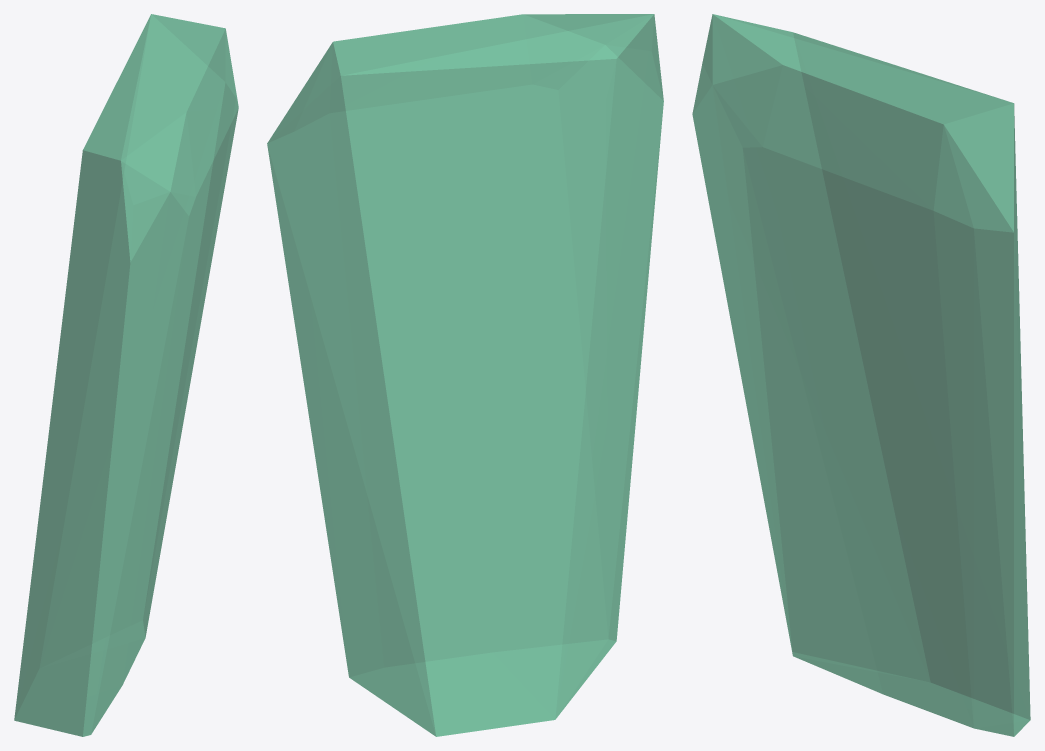
3 renders of one model, left to right at view 1: azimuth 30°, elevation 25°; view 2: azimuth 150°, elevation 25°; view 3: azimuth 270°, elevation 25°, orthographic. The views are drawn at different scales.
Parts seen in each view (by area): view 1: Shape_IndexedFaceSet.032_Shape_IndexedFaceSet.6439; view 2: Shape_IndexedFaceSet.032_Shape_IndexedFaceSet.6439; view 3: Shape_IndexedFaceSet.032_Shape_IndexedFaceSet.6439.
Part boxes in pixels (x1,y1,x2,y2): Shape_IndexedFaceSet.032_Shape_IndexedFaceSet.6439: [14, 14, 238, 736]; Shape_IndexedFaceSet.032_Shape_IndexedFaceSet.6439: [267, 14, 663, 736]; Shape_IndexedFaceSet.032_Shape_IndexedFaceSet.6439: [692, 14, 1030, 736].
Bounding box in the file's own units: 0.1938 × 0.4687 × 0.2142.
